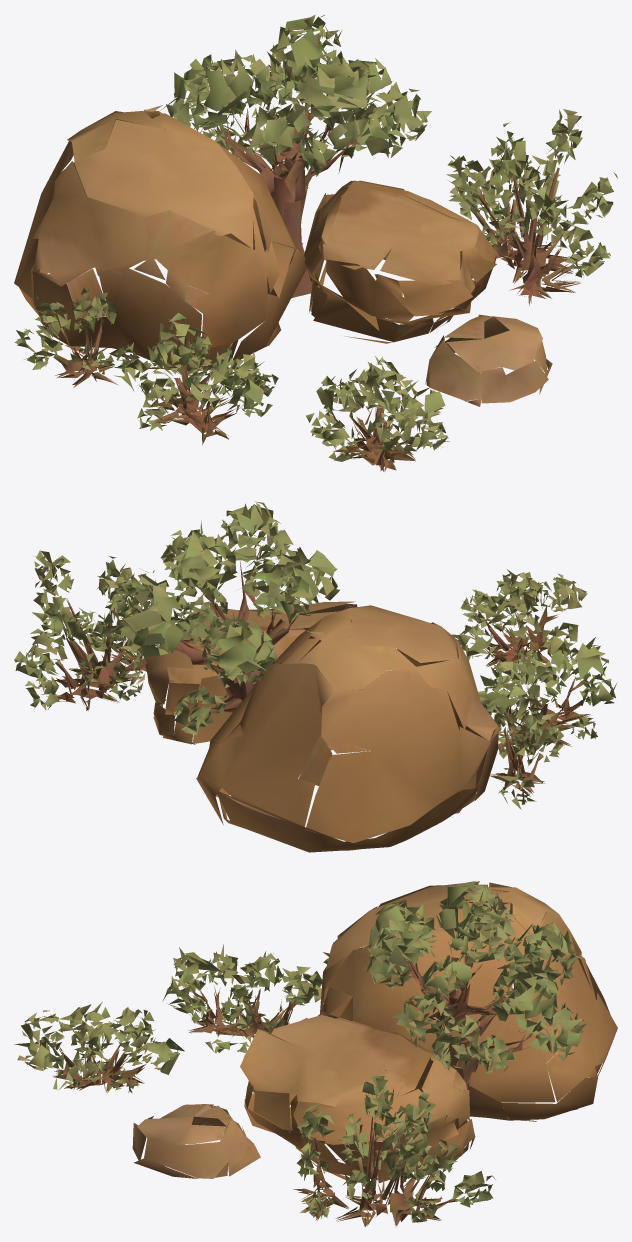
File: rock-shrub-3.glb
The picture shows the model from 3 angles, top to bottom: view 1: azimuth 30°, elevation 25°; view 2: azimuth 150°, elevation 25°; view 3: azimuth 270°, elevation 25°; orthographic projection. The views are drawn at different scales.
Parts seen in each view (by area): view 1: rock-shrub-3; view 2: rock-shrub-3; view 3: rock-shrub-3.
Part boxes in pixels (bbox=[...]): rock-shrub-3: bbox=[14, 14, 617, 471]; rock-shrub-3: bbox=[14, 501, 617, 852]; rock-shrub-3: bbox=[14, 881, 617, 1226].
Bounding box in the file's own units: 0.9831 × 0.4409 × 0.978.
Materials: 1 (1 with a texture image).
